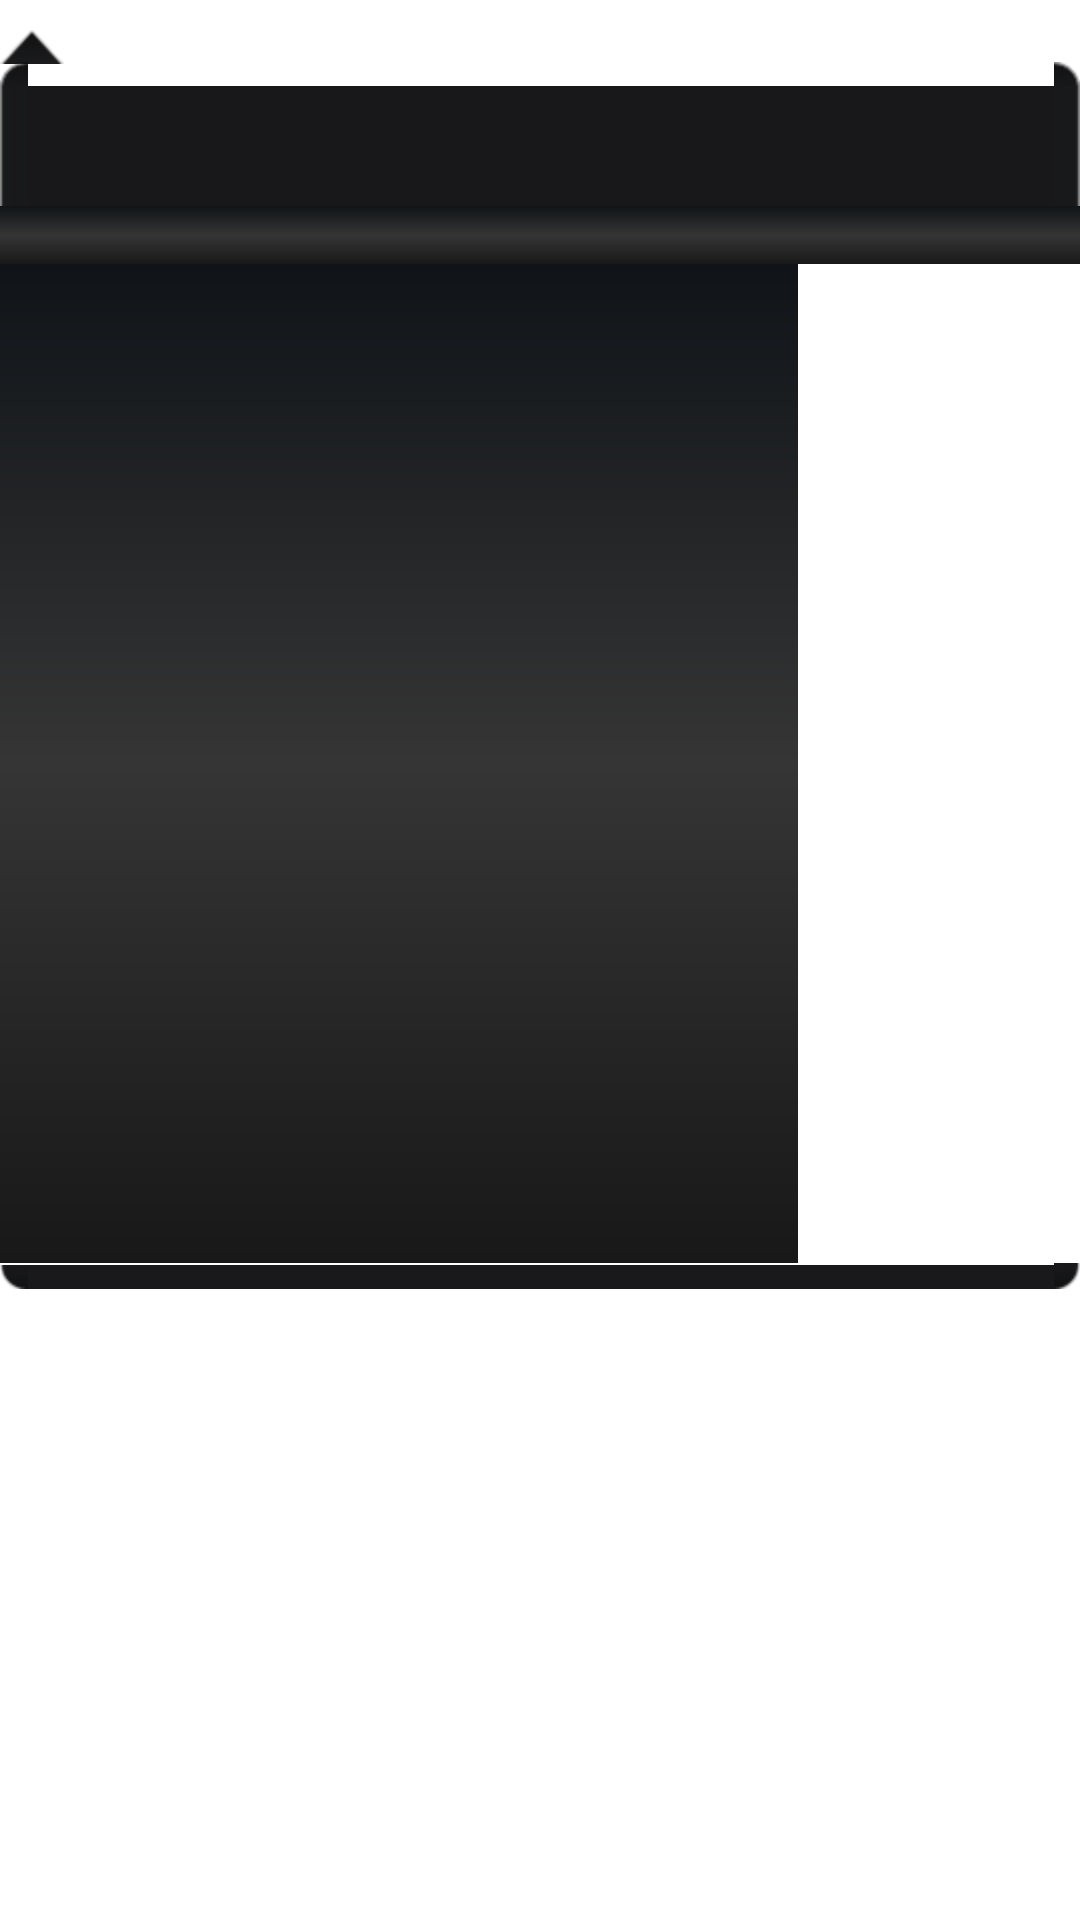

Where icons sit on this 1080 × 1920 app screen, as (x1, y1, x2, y2):
quickcontact arrow up: (1, 31, 63, 64)
